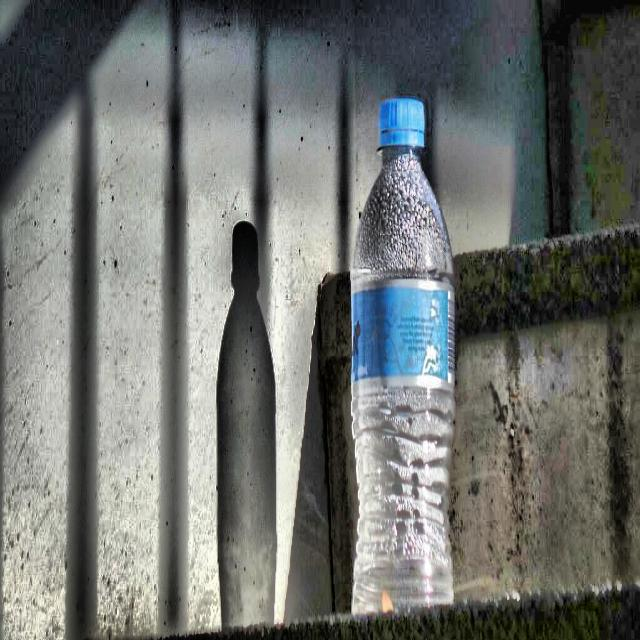Bottles: (347, 92, 458, 617)
